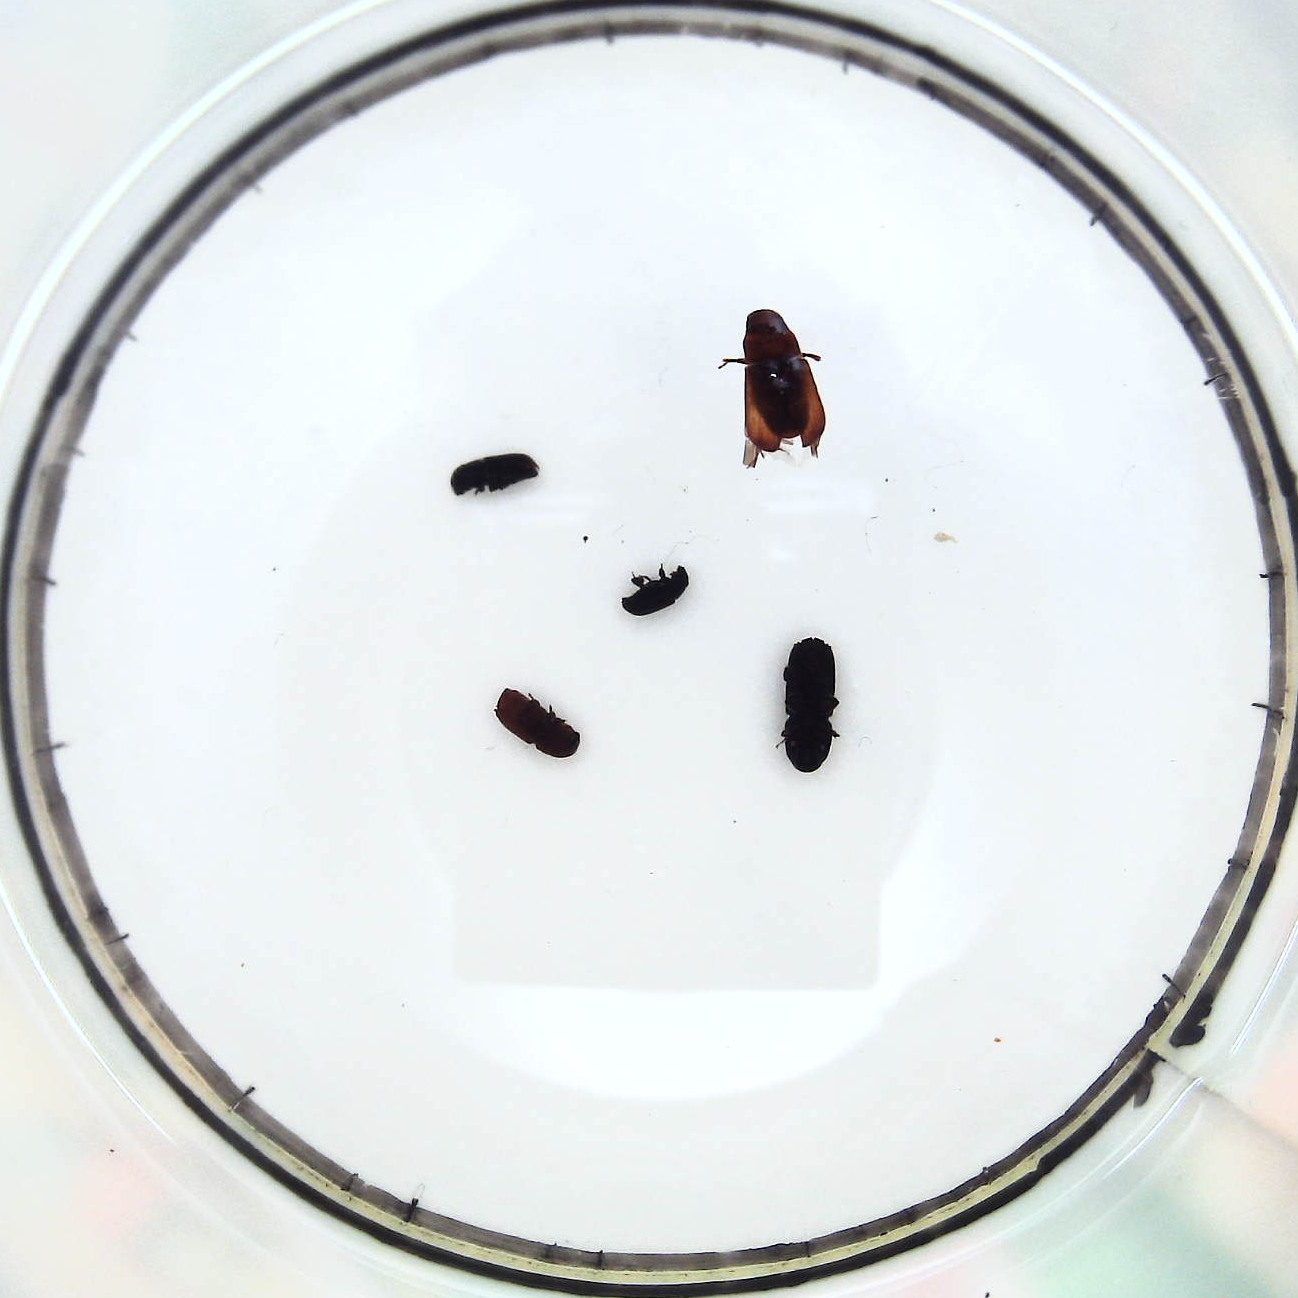Boerner: (782, 634, 837, 771)
Leconte: (733, 307, 828, 471)
Linnaeus: (494, 688, 582, 761)
armandi: (454, 452, 538, 503)
coleoptera: (622, 563, 692, 615)
